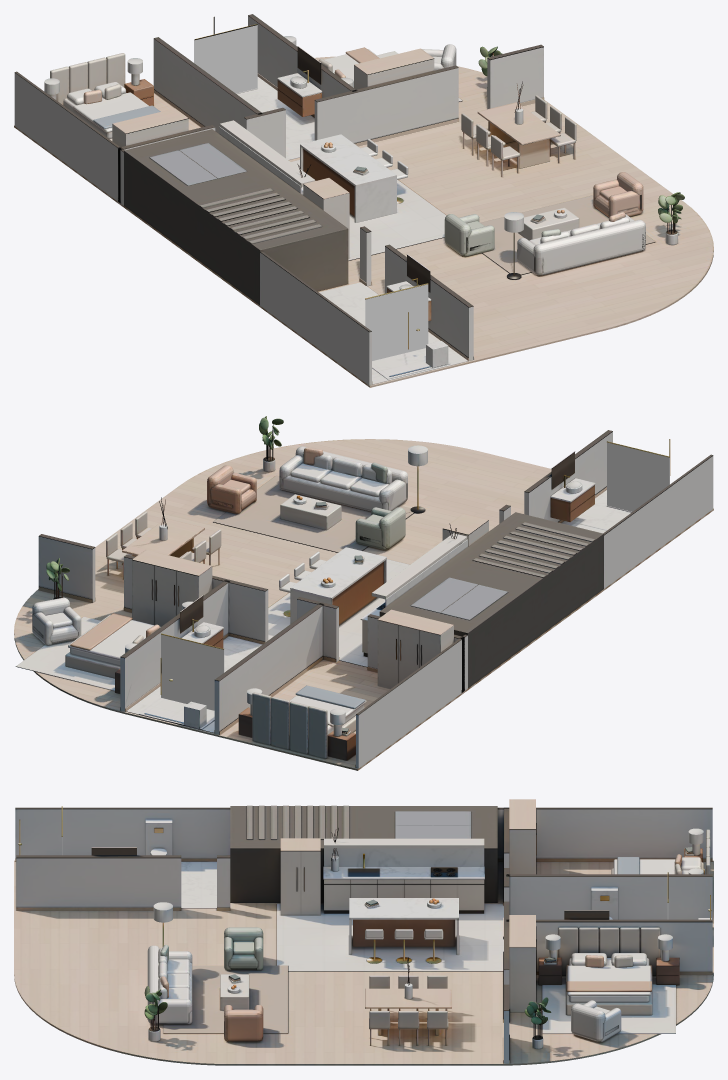
Rendered from half2.glb.
3 views of the same model, one above another, from view 1: azimuth 30°, elevation 25°; view 2: azimuth 150°, elevation 25°; view 3: azimuth 270°, elevation 25° (orthographic).
Parts seen in each view (by area): view 1: residence, glass; view 2: residence, glass; view 3: residence.
Part boxes in pixels (bbox=[...]): residence: bbox=[14, 14, 713, 387]; glass: bbox=[194, 25, 428, 360]; residence: bbox=[14, 416, 713, 770]; glass: bbox=[161, 442, 669, 710]; residence: bbox=[14, 799, 713, 1065].
Bounding box in the file's own units: 10.8 × 1.96 × 15.7.
Materials: 2 (1 with a texture image).
